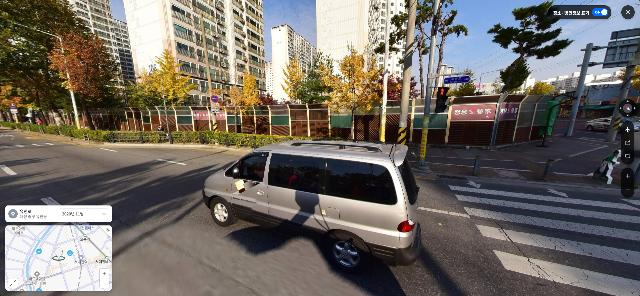ginkgo: (321, 40, 383, 140), (135, 48, 196, 137), (221, 65, 264, 134), (436, 68, 482, 98), (281, 54, 306, 105)
other: (484, 0, 586, 95), (372, 0, 468, 99), (51, 23, 127, 132), (294, 49, 337, 105)
